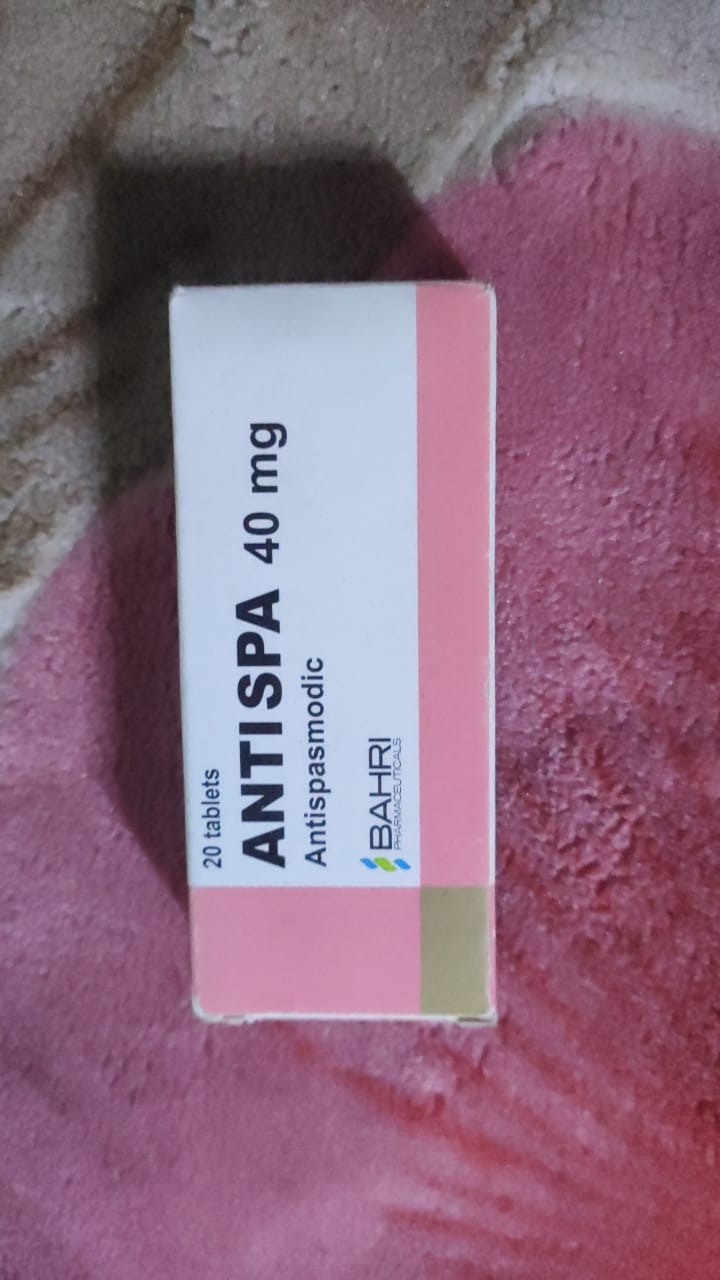Medicine: (143, 257, 547, 1070)
